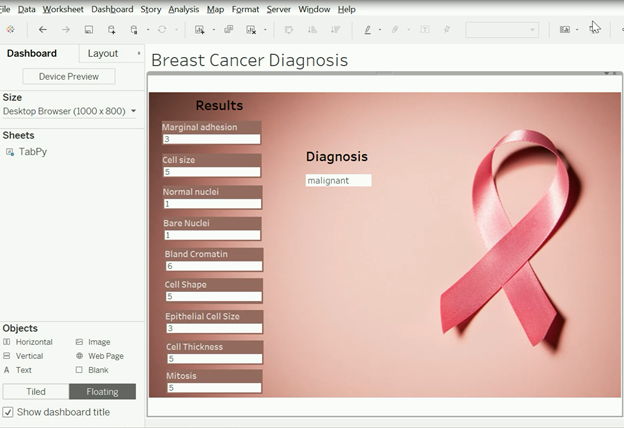

This screenshot's page, from the dashboard's own definition file:
{"tool":"tableau","page":{"name":"Dashboard 1","canvas":[1000,800],"ordinal":0},"visuals":[{"type":"title","box":[0,0,1000,62]},{"type":"image","param":"Image/141210-breastcancer-stock.jpg","box":[0,62,996,738]},{"type":"text","box":[101,99,137,62]},{"type":"parameter","param":"[Parameters].[Marg.adhesion Parameter]","box":[35,164,208,52]},{"type":"text","box":[331,220,169,37]},{"type":"parameter","param":"[Parameters].[Cell.size Parameter]","box":[36,234,207,52]},{"type":"worksheet","title":"Sheet 1","mark":"Automatic","box":[335,278,242,51]},{"type":"parameter","param":"[Parameters].[Normal.nucleoli Parameter]","box":[37,302,208,52]},{"type":"parameter","param":"[Parameters].[Bare.nuclei Parameter]","box":[38,369,205,52]},{"type":"parameter","param":"[Parameters].[Bl.cromatin Parameter]","box":[41,435,206,52]},{"type":"parameter","param":"[Parameters].[Cell.shape Parameter]","box":[41,500,205,55]},{"type":"parameter","param":"[Parameters].[Epith.c.size Parameter]","box":[42,568,205,52]},{"type":"parameter","param":"[Parameters].[Cl.thickness Parameter]","box":[44,633,203,52]},{"type":"parameter","param":"[Parameters].[Mitoses Parameter]","box":[44,695,201,52]}]}

Visuals, with their boxes on the page's 1000x800 design canvas (x1, y1, x2, y2). These are canvas units, not pixel positions in the 624x428 screenshot, which may show the page scaled, cropped or inside an application window:
title: region(0, 0, 1000, 62)
image: region(0, 62, 996, 800)
text: region(101, 99, 238, 161)
parameter: region(35, 164, 243, 216)
text: region(331, 220, 500, 257)
parameter: region(36, 234, 243, 286)
"Sheet 1" worksheet: region(335, 278, 577, 329)
parameter: region(37, 302, 245, 354)
parameter: region(38, 369, 243, 421)
parameter: region(41, 435, 247, 487)
parameter: region(41, 500, 246, 555)
parameter: region(42, 568, 247, 620)
parameter: region(44, 633, 247, 685)
parameter: region(44, 695, 245, 747)
